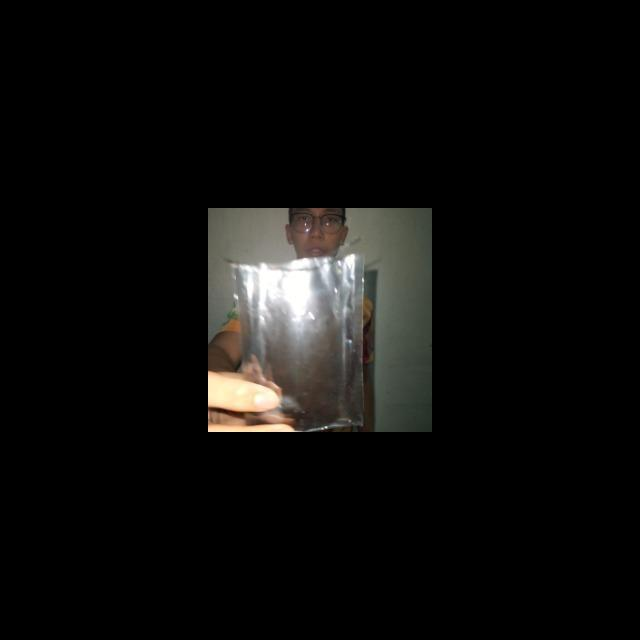plastic: (229, 252, 372, 431)
